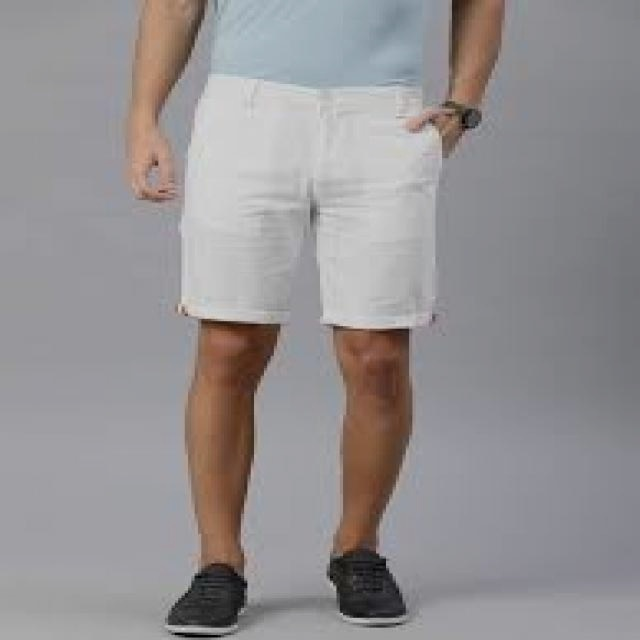Shorts: (175, 70, 446, 550)
